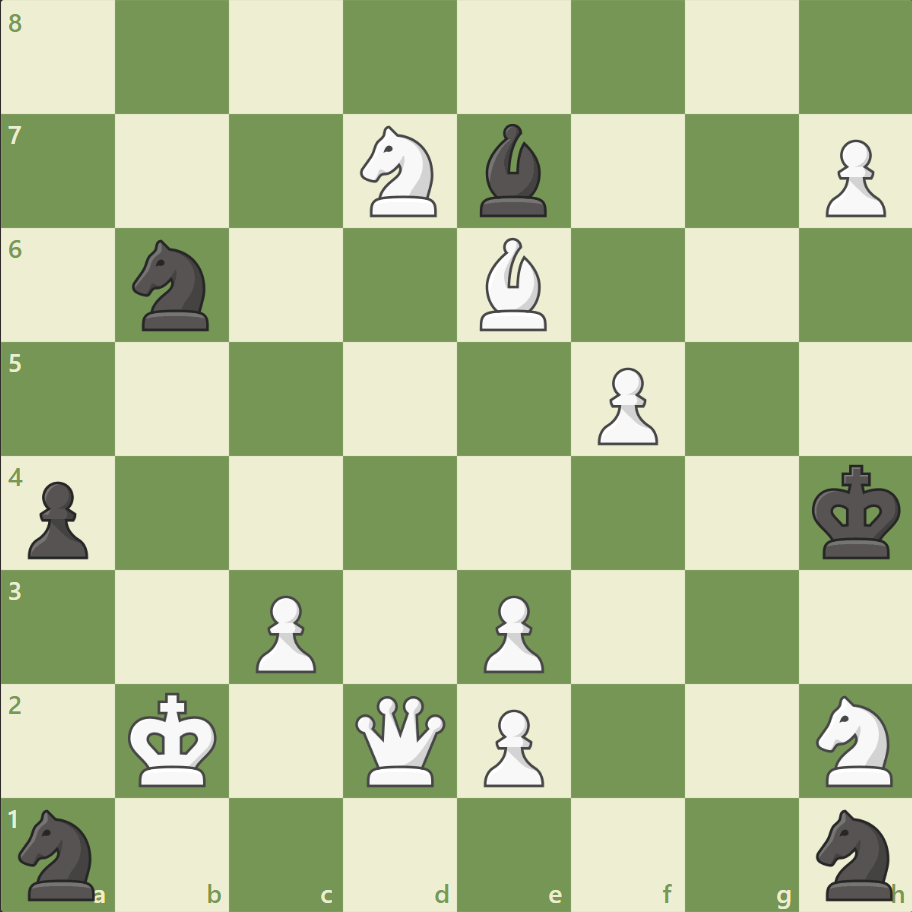B: (471, 233, 555, 336)
K: (124, 685, 224, 793)
N: (351, 121, 449, 223), (806, 688, 903, 791)
P: (247, 586, 322, 677), (474, 586, 549, 677), (474, 700, 549, 791), (815, 132, 889, 223), (588, 359, 662, 450)
Q: (351, 690, 450, 789)
b: (471, 120, 555, 222)
k: (806, 458, 906, 566)
n: (124, 234, 222, 337), (11, 802, 108, 904), (806, 802, 903, 904)
p: (20, 473, 95, 564)
